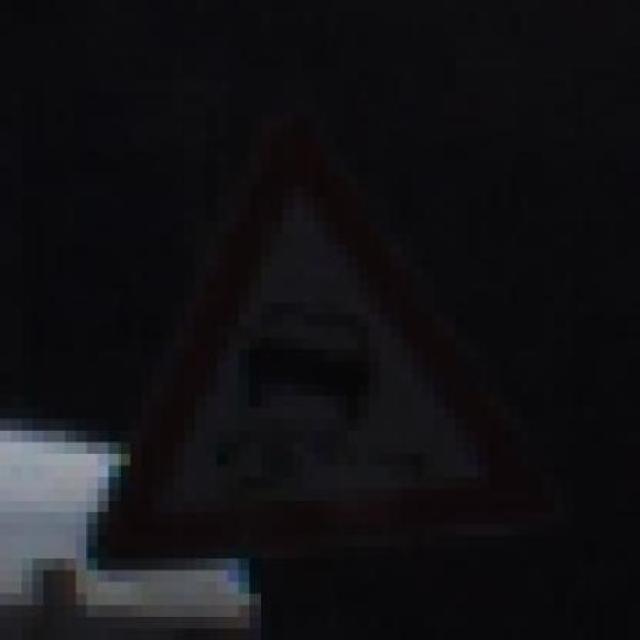Slippery Road Ahead: (65, 93, 542, 570)
